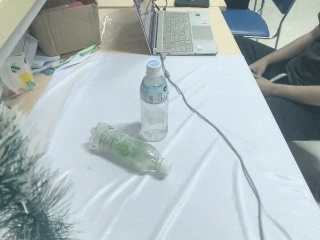bottle: (139, 58, 171, 142)
box: (28, 1, 103, 57)
cup: (87, 122, 174, 180)
